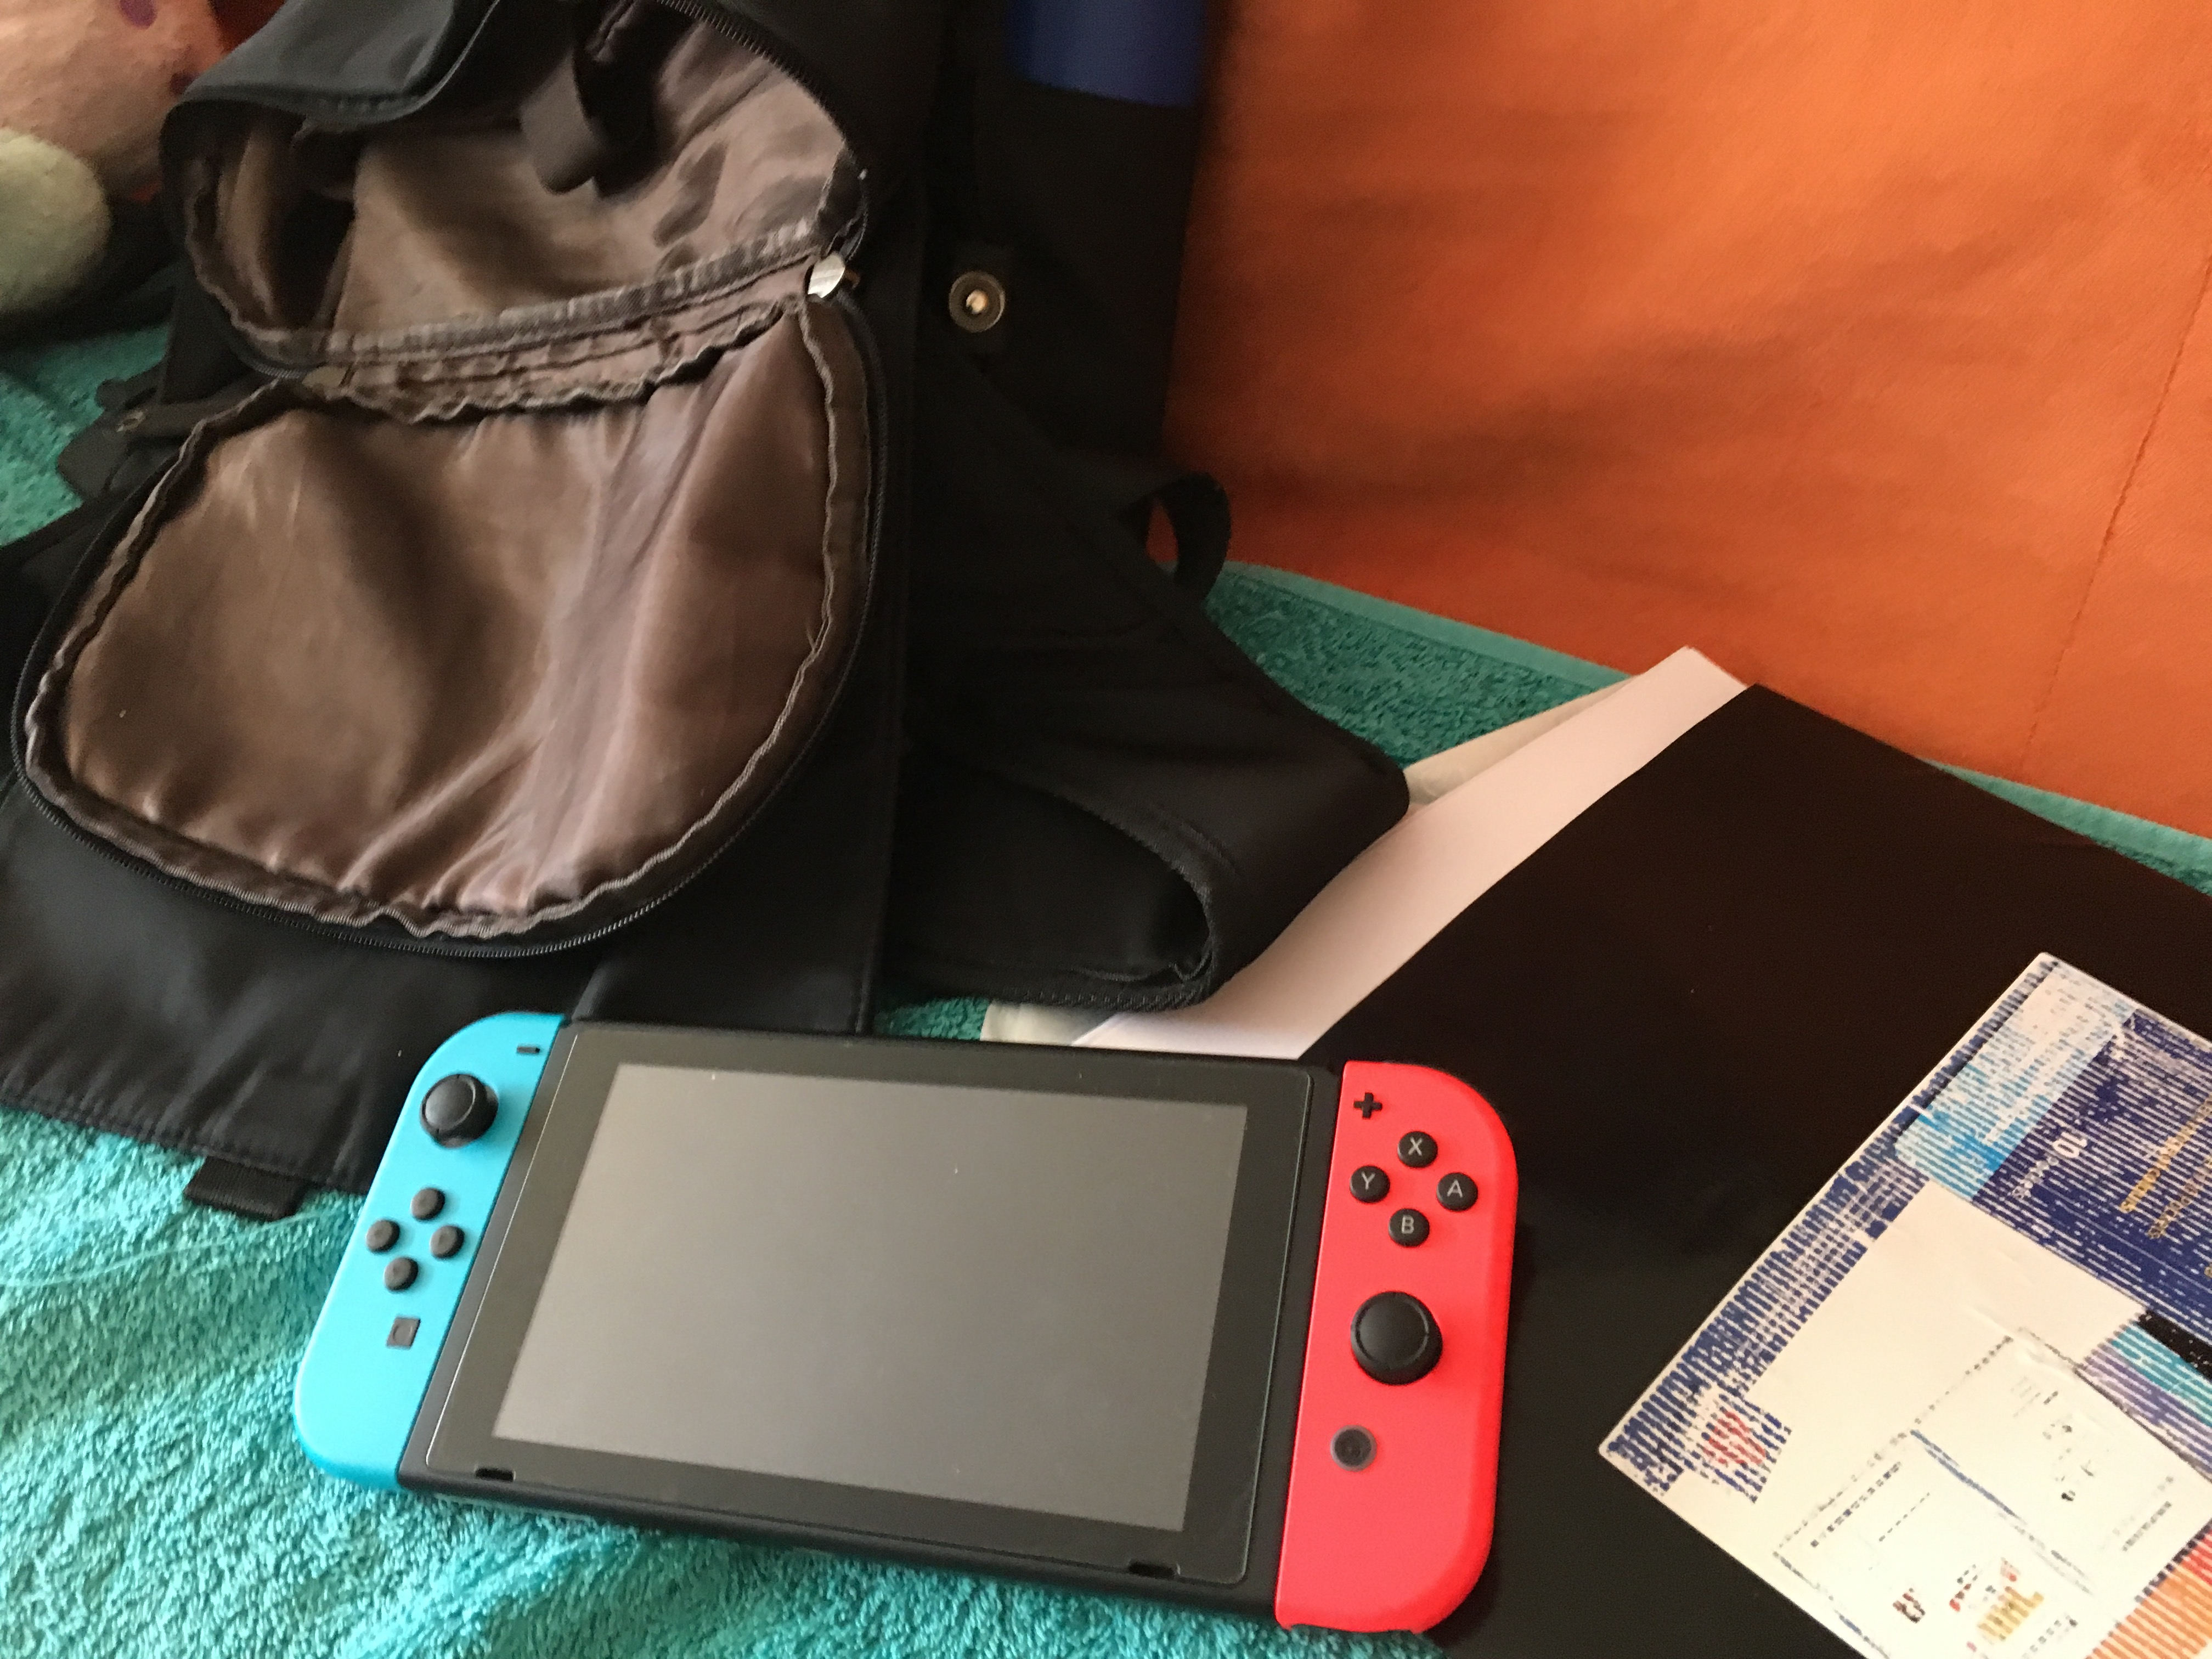NintendoSwitch: (280, 1000, 1529, 1635)
